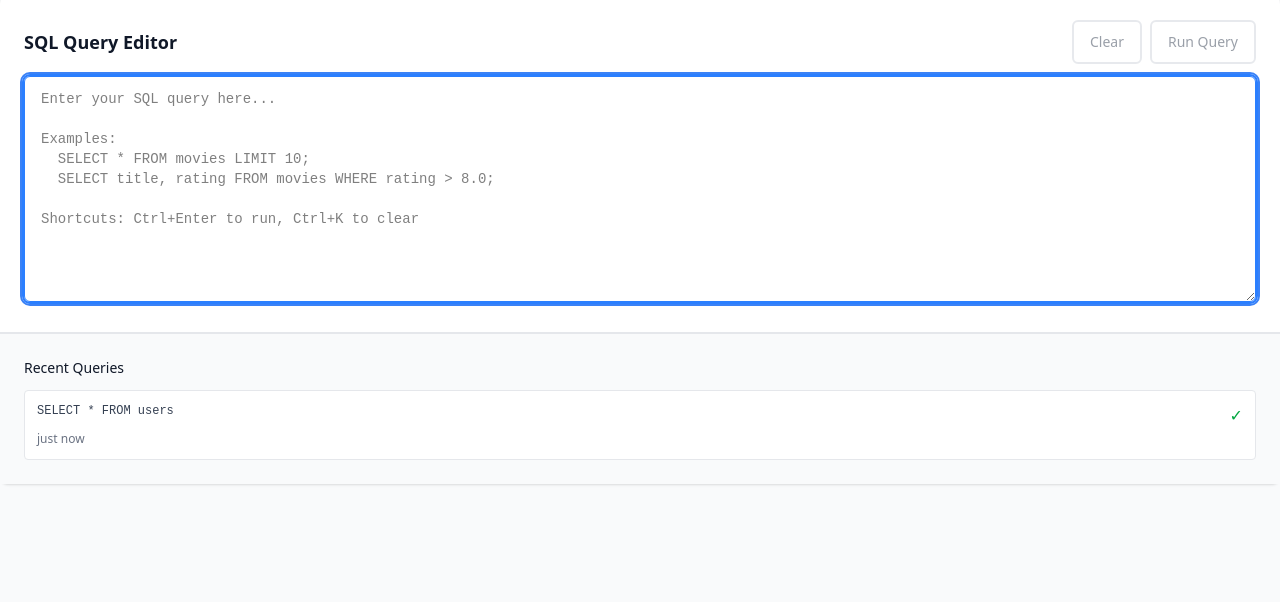
Test: QueryEditor › Keyboard Shortcuts › Escape dismisses error message
The image size is (1280, 602).
Type "BAD SQL" into the text box named "sql query input".
click(640, 189); type("BAD SQL")  # box [24,76,1256,302]
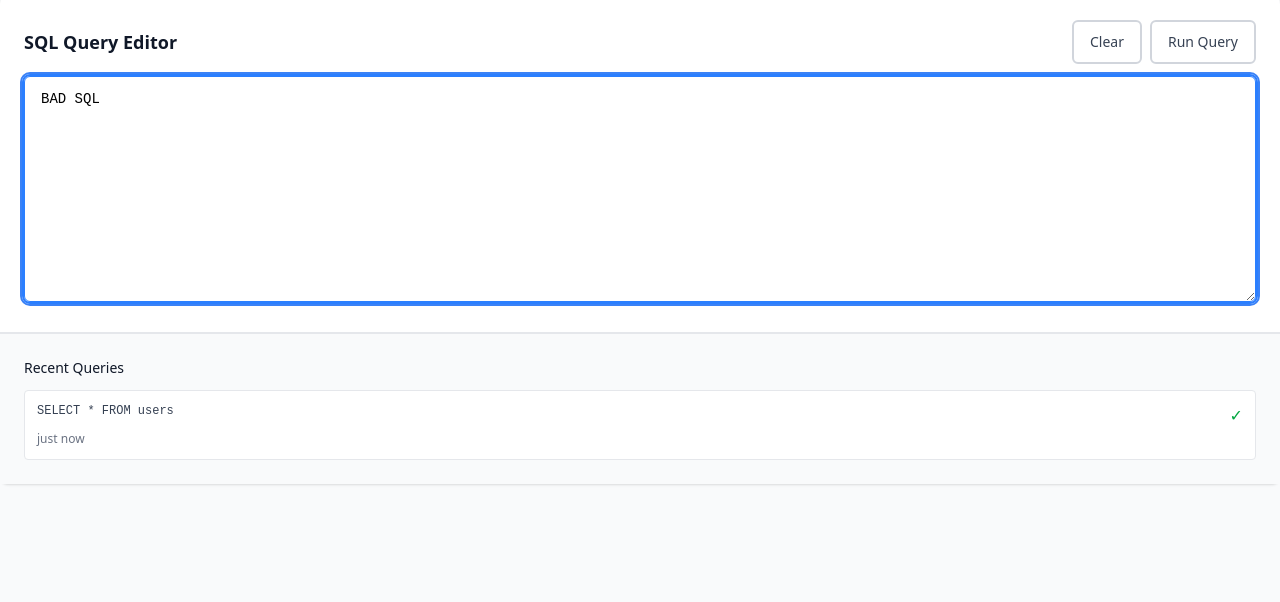
Click the button "Run Query".
click(1203, 42)  # box [1150,20,1256,64]
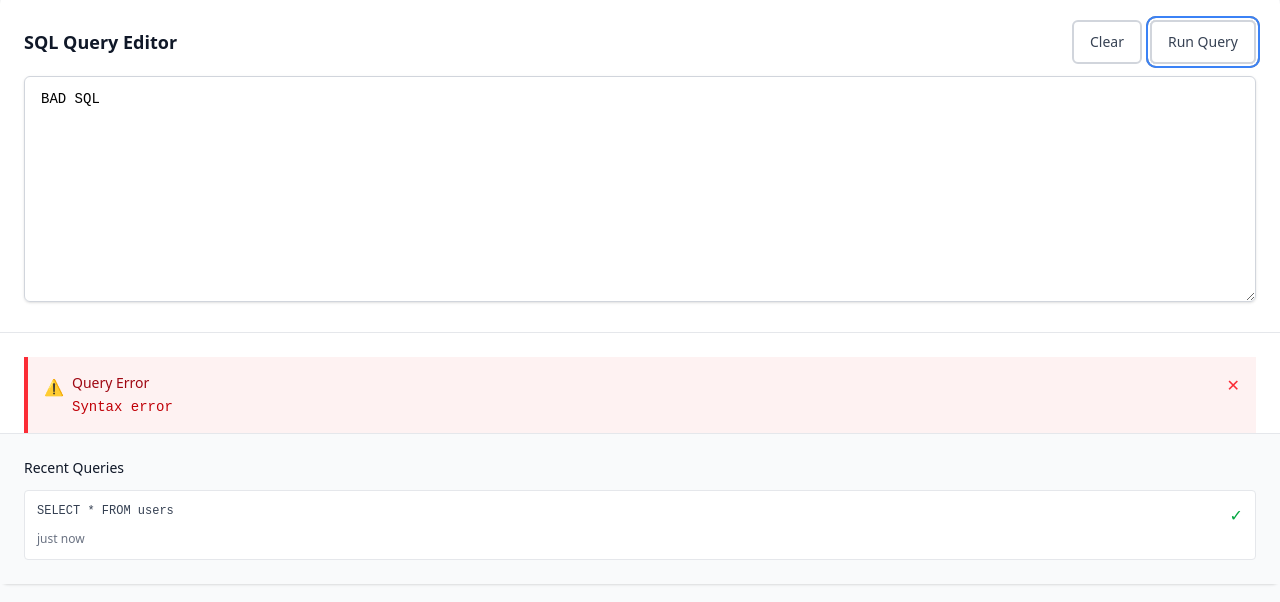
Expected: the text "Syntax error" is shown, [72,397,173,417]
Click the text box named "sql query input".
click(640, 189)  # box [24,76,1256,302]
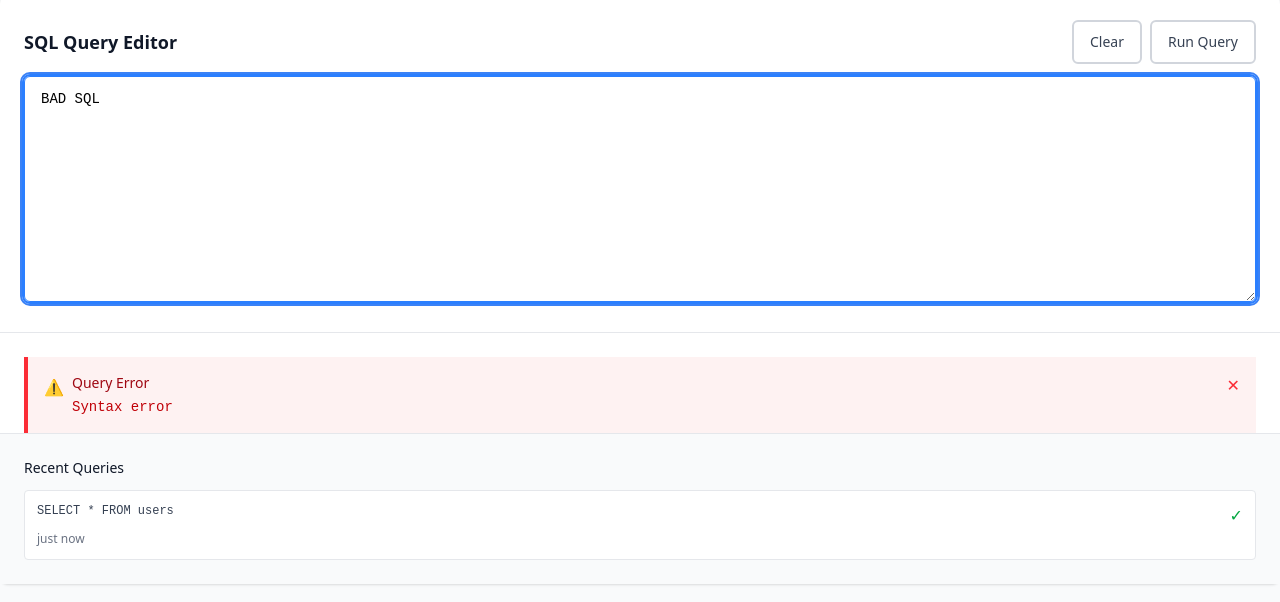
Press Escape
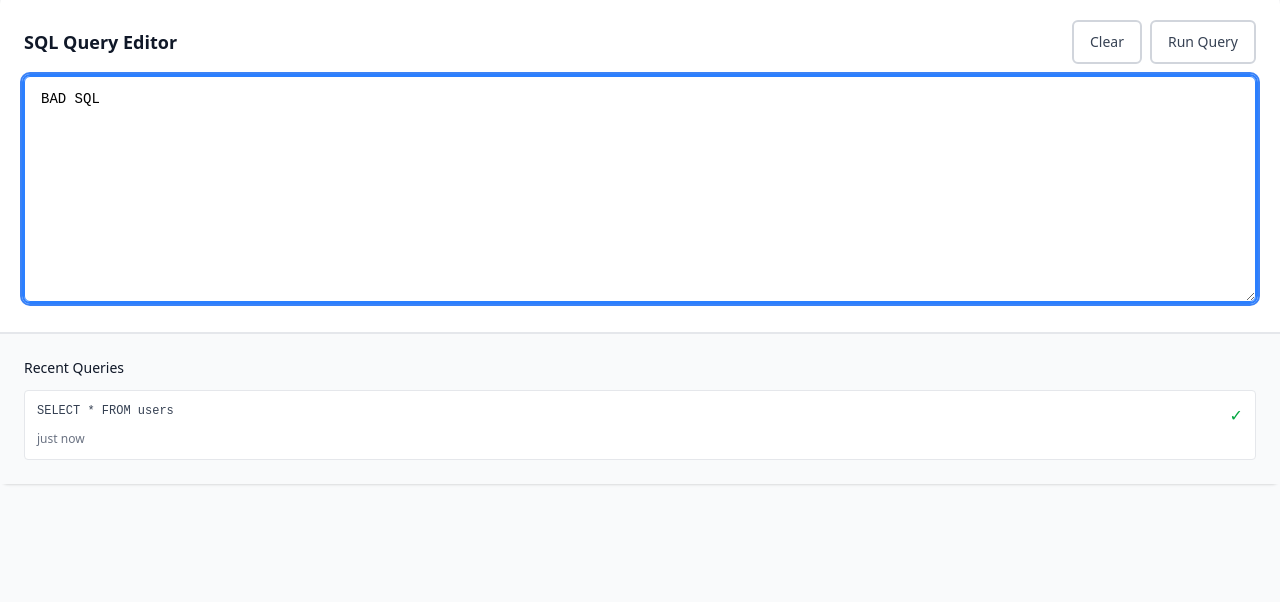
Expected: the text "Syntax error" is gone
